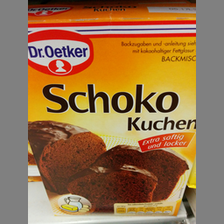cake: (27, 2, 196, 218)
